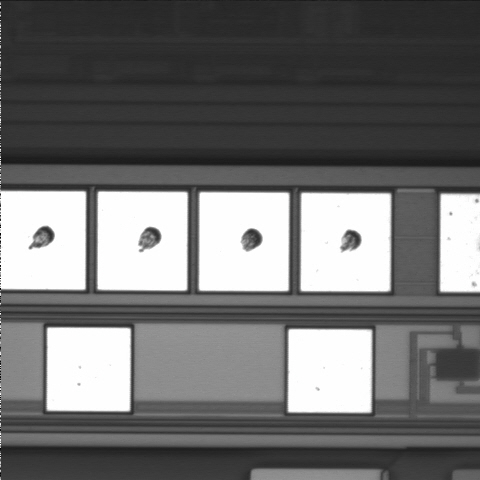pad: (199, 192, 289, 291), (98, 192, 188, 290), (301, 193, 391, 291), (288, 329, 372, 413), (47, 328, 130, 411)
